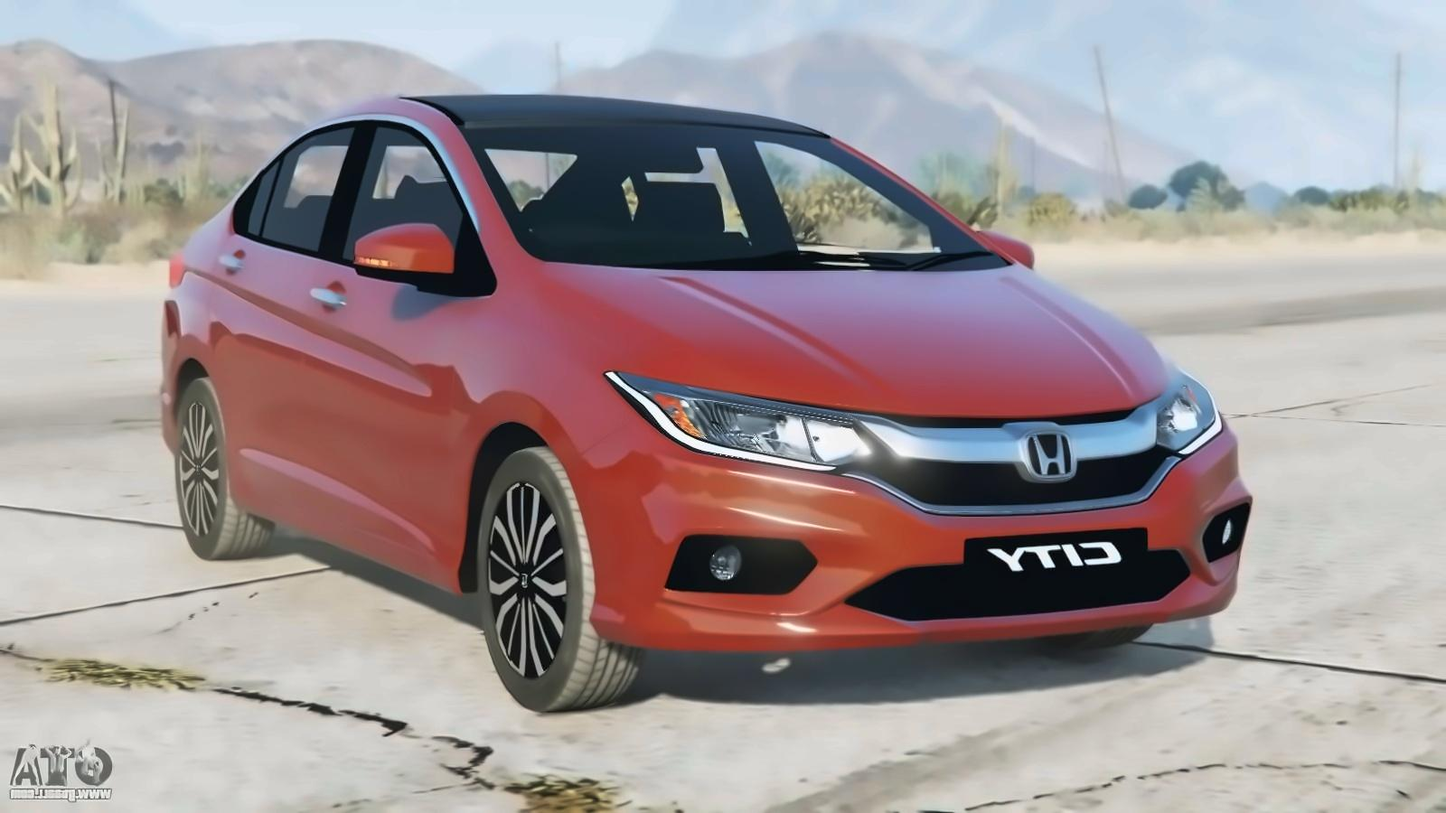Car hood: (538, 253, 1180, 421)
Driver-s door - -F-R-: (317, 100, 482, 579)
Fender - -F-R-: (448, 253, 652, 594)
Fender - -R-R-: (171, 243, 253, 529)
Front bumper: (556, 459, 1272, 665)
Headlight - -L-: (1139, 350, 1240, 471)
Headlight - -R-: (585, 359, 876, 489)
Passenger-s door - -R-R-: (199, 97, 356, 514)
Rear bumper: (95, 330, 198, 466)
Rear light - -R-: (127, 233, 208, 292)
Side bumper - -R-: (206, 450, 465, 610)
Side mirror - -L-: (965, 217, 1075, 294)
Side mirror - -R-: (323, 206, 469, 298)
